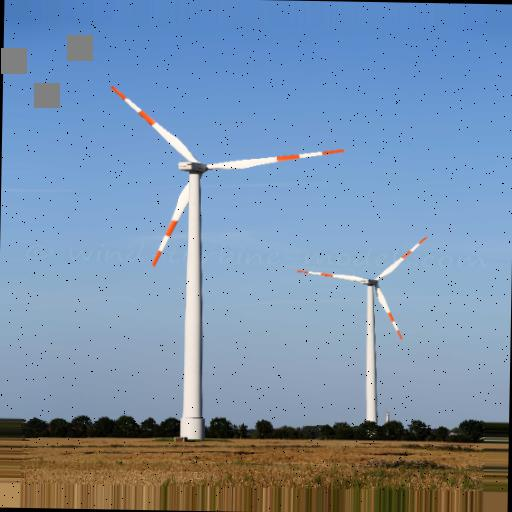wind turbine: (107, 86, 346, 440), (297, 235, 430, 438)
